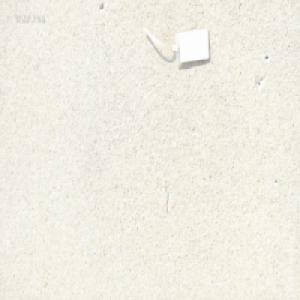LuggageTag: (139, 23, 212, 68)
